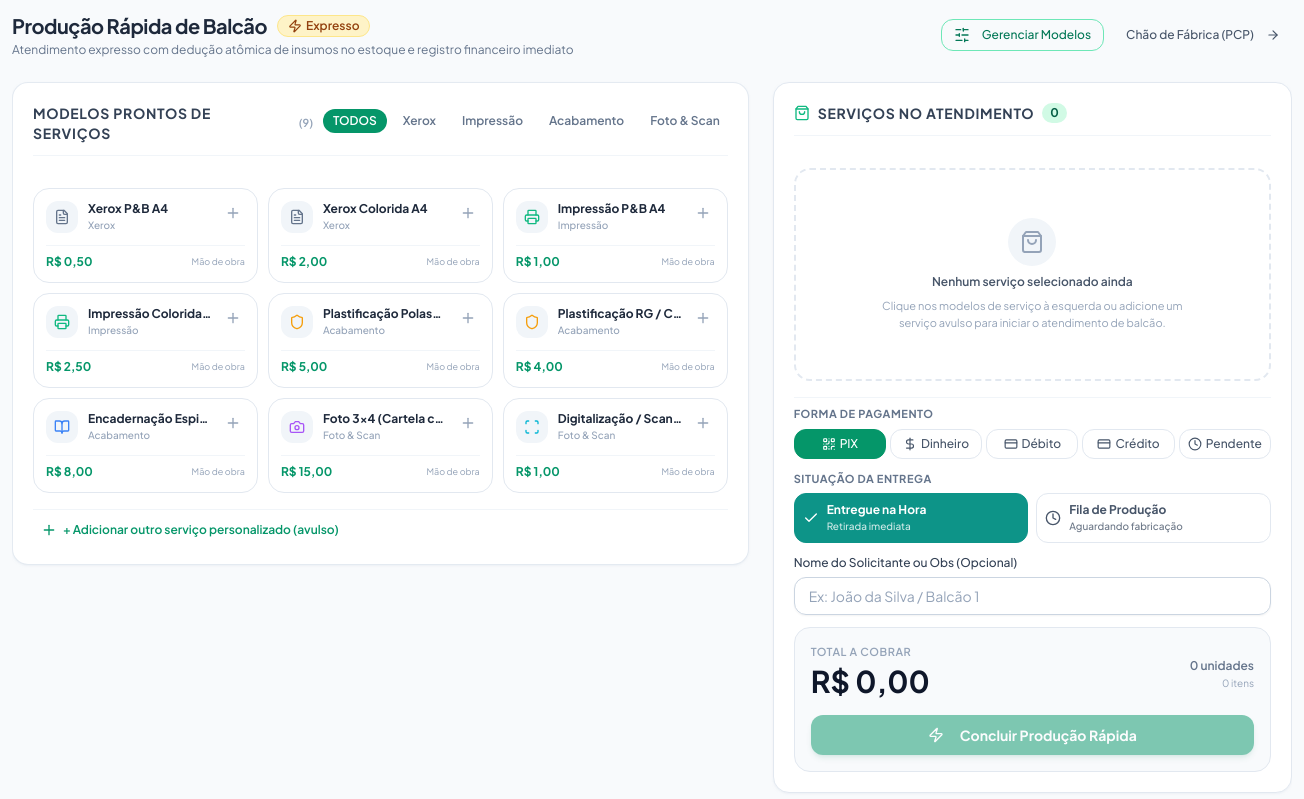
it: QuickProductionPage › adds multiple different services and calculates combined total
Click the button "Xerox P&B A4 Xerox R$ 0,50 Mão de obra" at {"x": 145, "y": 236}, box [33,188,258,283]
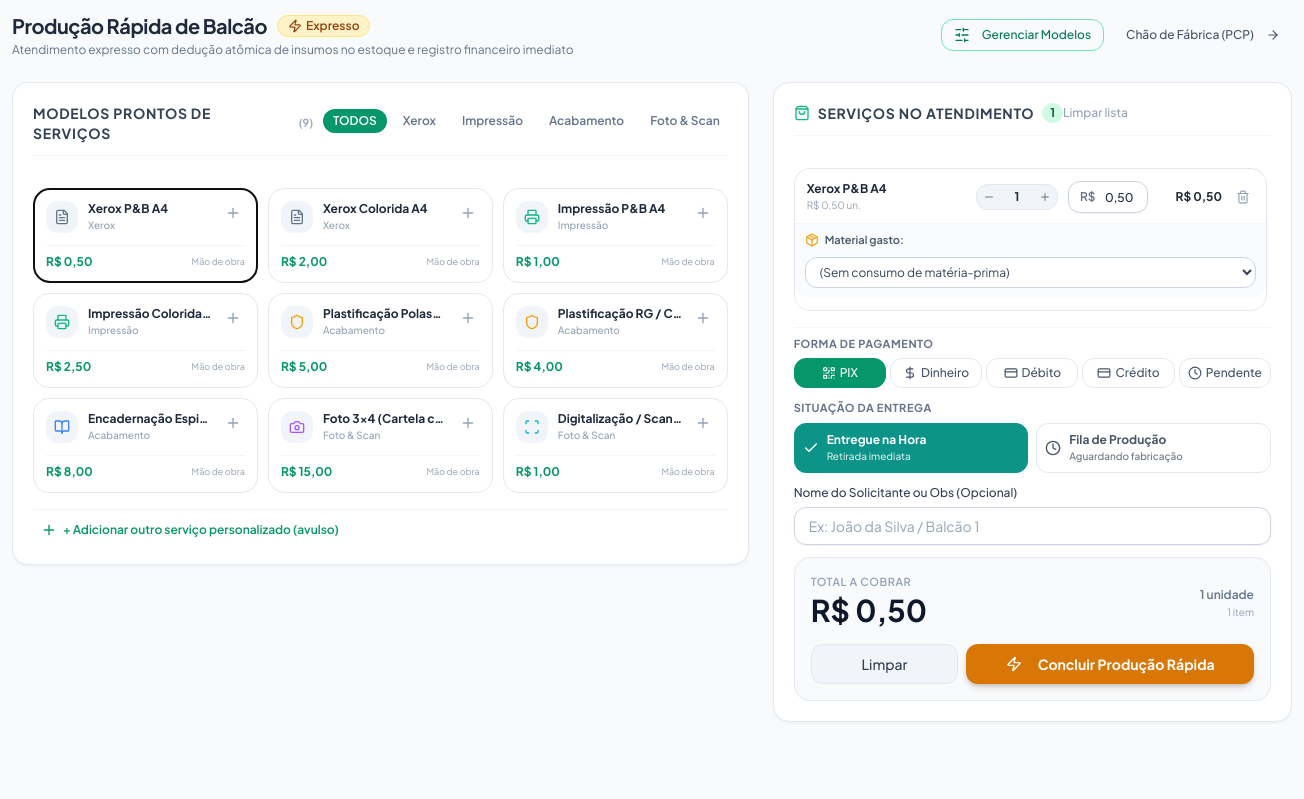
Click the button "Plastificação Polaseal A4 Acabamento R$ 5,00 Mão de obra" at {"x": 380, "y": 340}, box [268,293,493,388]
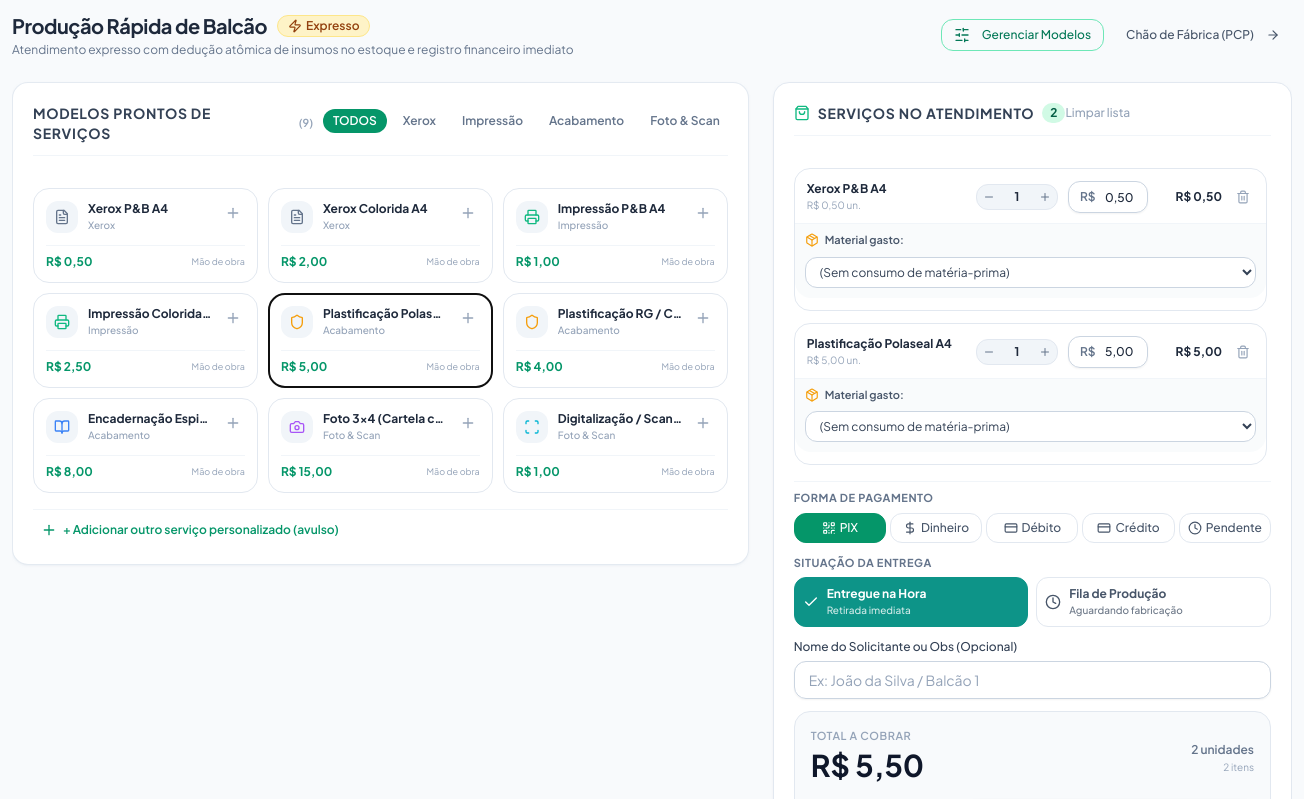
Expected: the text "2 itens" is shown, [1223,761,1254,773]
